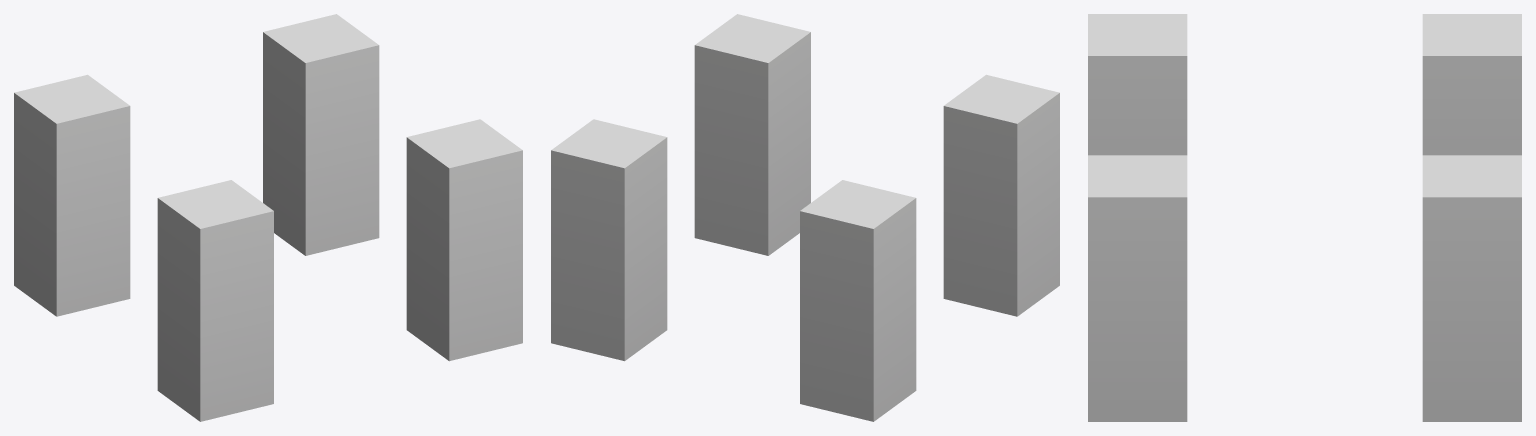
The model's file is Table_leg_02_C02.fbx.
The picture shows the model from 3 angles, left to right: view 1: azimuth 30°, elevation 25°; view 2: azimuth 150°, elevation 25°; view 3: azimuth 270°, elevation 25°; orthographic projection. The views are drawn at different scales.
Parts seen in each view (by area): view 1: Table_leg_02_C02; view 2: Table_leg_02_C02; view 3: Table_leg_02_C02.
Boxes of the visible parts, x1,y1,x2,y2 form: Table_leg_02_C02: (14, 14, 522, 421); Table_leg_02_C02: (551, 14, 1059, 421); Table_leg_02_C02: (1088, 14, 1521, 421).
Bounding box in the file's own units: 87.5 × 50 × 87.5.
